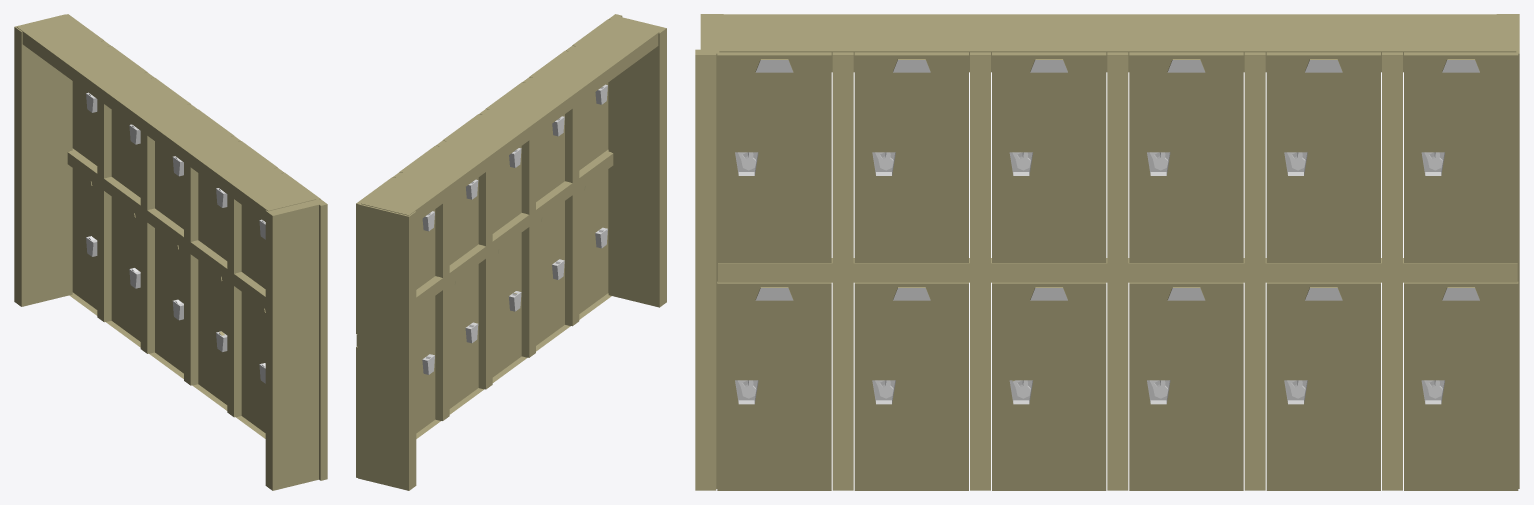
Rendered from locker.glb.
3 renders of one model, left to right at view 1: azimuth 30°, elevation 25°; view 2: azimuth 150°, elevation 25°; view 3: azimuth 270°, elevation 25°, orthographic. The views are drawn at different scales.
Parts seen in each view (by area): view 1: Cube.007; view 2: Cube.007; view 3: Cube.007.
Part boxes in pixels (bbox=[...]): Cube.007: bbox=[14, 14, 327, 490]; Cube.007: bbox=[356, 14, 666, 490]; Cube.007: bbox=[695, 14, 1519, 490].
Bounding box in the file's own units: 0.8752 × 4.21 × 7.2.
